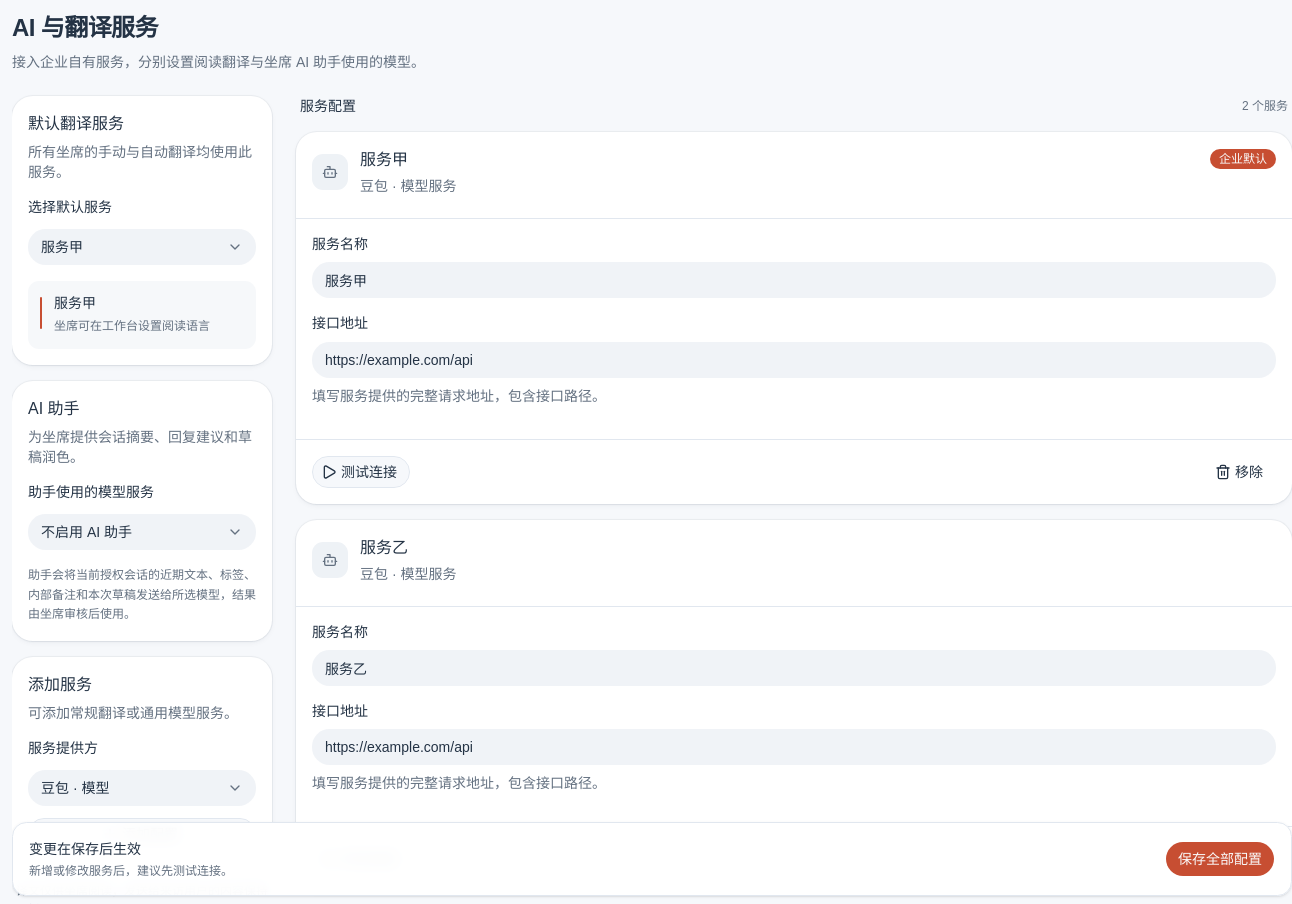
翻译服务页 › 保存成功后 Editor 不重挂：stable 查询不随写后失效重查
The image size is (1292, 904).
Expected: the heading "服务甲" is shown, left=360, top=151, right=408, bottom=168
Click the button "保存全部配置".
click(1220, 859)  # box left=1165, top=841, right=1275, bottom=877
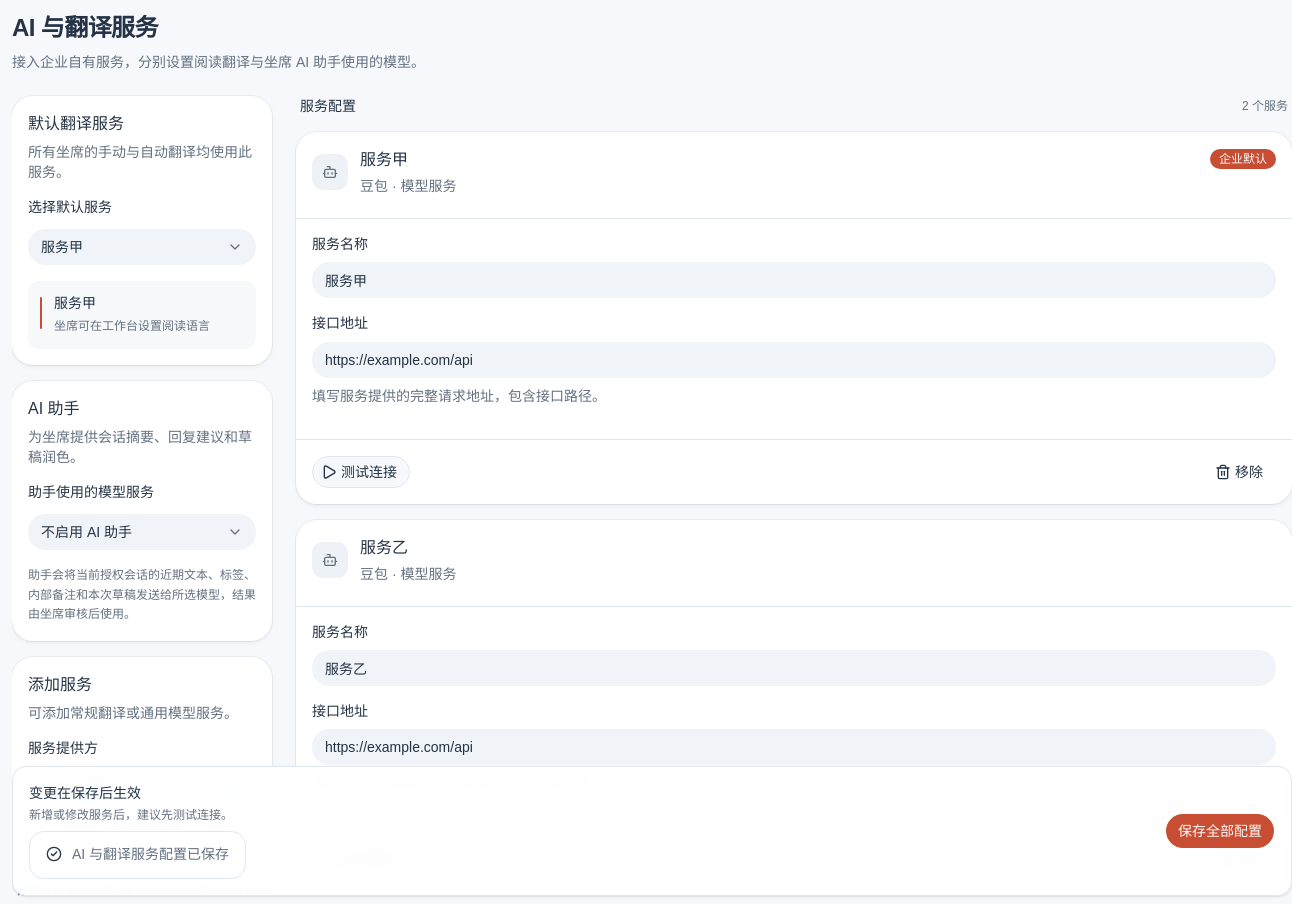
Now the text "AI 与翻译服务配置已保存" is shown, box left=72, top=844, right=229, bottom=864
